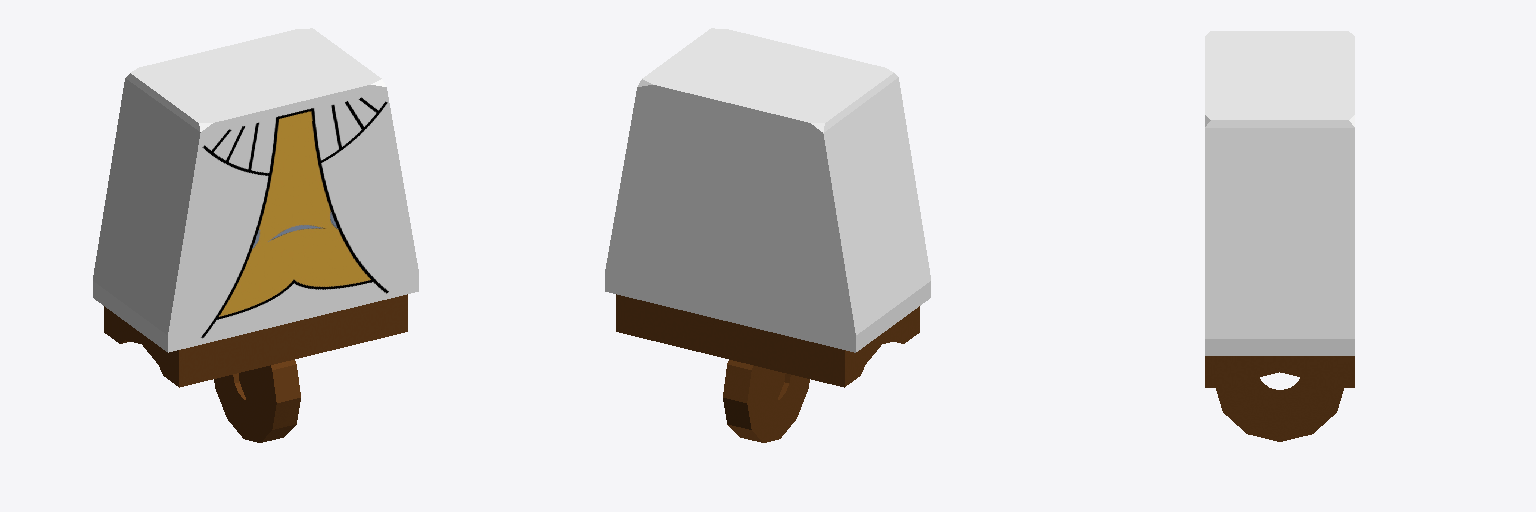
The picture shows the model from 3 angles: view 1: azimuth 30°, elevation 25°; view 2: azimuth 150°, elevation 25°; view 3: azimuth 270°, elevation 25°; orthographic projection.
Visible parts, largest first — view 1: cuerpo; view 2: cuerpo; view 3: cuerpo.
Boxes of the visible parts, box(x1,y1,x2,y2) form: cuerpo: box(93, 28, 418, 442); cuerpo: box(605, 28, 930, 442); cuerpo: box(1205, 31, 1354, 441).
Bounding box in the file's own units: 14.18 × 19.41 × 7.37.
Materials: 2 (2 with a texture image).